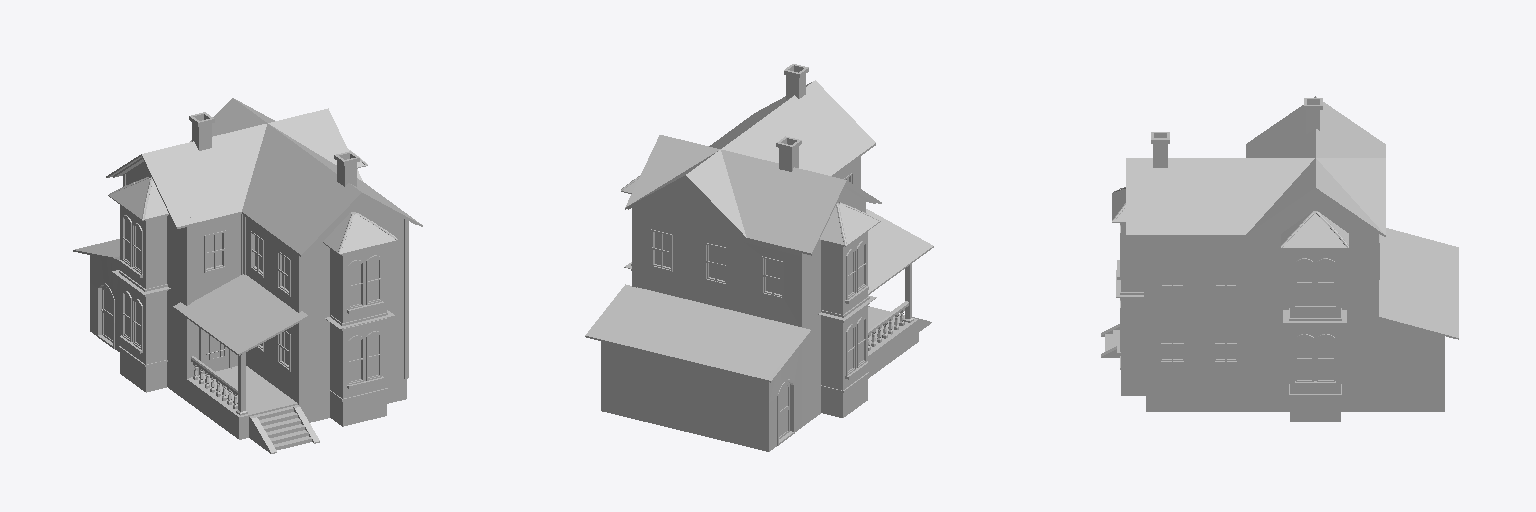
Rendered from OldHouse.obj.
3 views of the same model, side by side, from view 1: azimuth 30°, elevation 25°; view 2: azimuth 150°, elevation 25°; view 3: azimuth 270°, elevation 25° (orthographic).
Visible parts, largest first — view 1: House.001_Plane.061; view 2: House.001_Plane.061; view 3: House.001_Plane.061.
Boxes of the visible parts, box(x1,y1,x2,y2) form: House.001_Plane.061: box(73, 98, 422, 453); House.001_Plane.061: box(585, 64, 933, 451); House.001_Plane.061: box(1101, 96, 1458, 421).
Size of the model in its own units: 11.23 by 12.87 by 15.41.